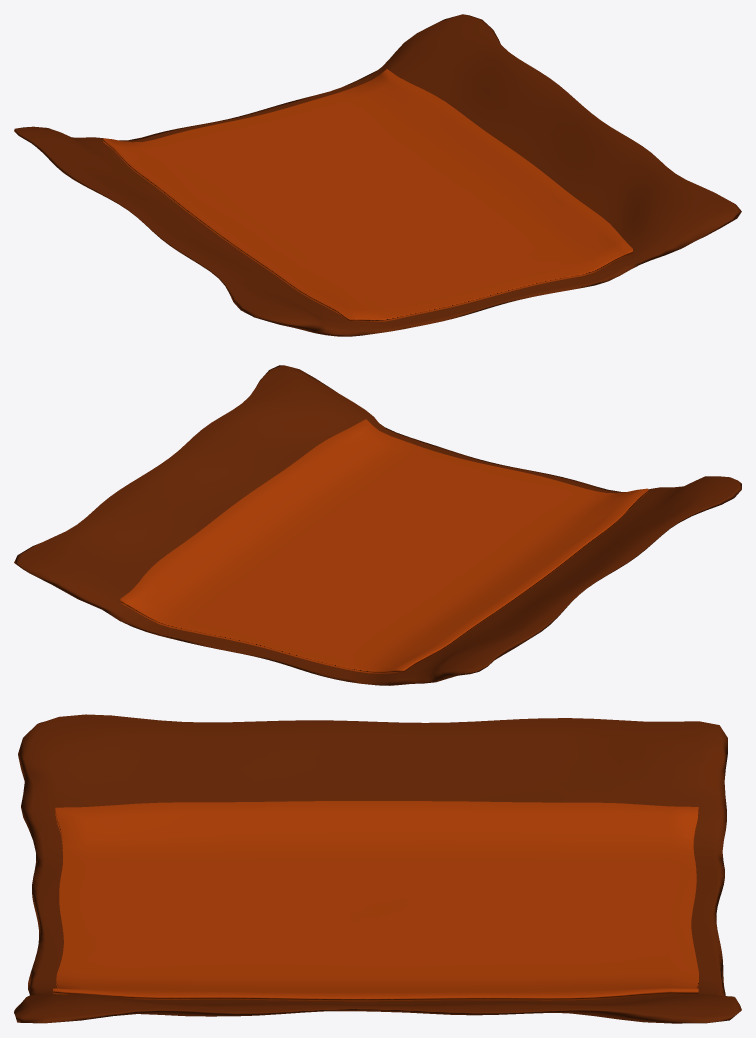
File: karta.fbx
3 views of the same model, one above another, from view 1: azimuth 30°, elevation 25°; view 2: azimuth 150°, elevation 25°; view 3: azimuth 270°, elevation 25° (orthographic). The views are drawn at different scales.
Visible parts, largest first — view 1: карта, Обложка; view 2: карта, Обложка; view 3: карта, Обложка.
Part boxes in pixels (x1,y1,x2,y2): карта: (103, 69, 632, 321); Обложка: (14, 14, 741, 336); карта: (120, 419, 648, 673); Обложка: (14, 365, 741, 685); карта: (53, 801, 698, 1001); Обложка: (14, 714, 741, 1023).
Size of the model in its own units: 215 by 19.33 by 215.
